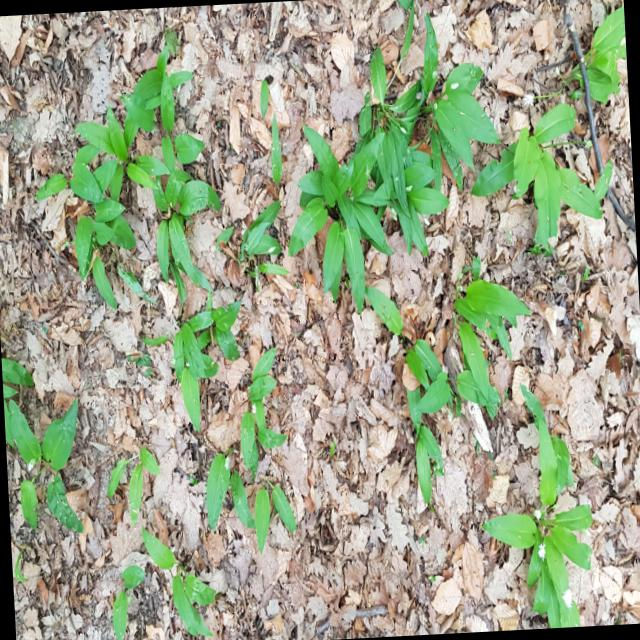grass: (37, 31, 240, 430), (288, 13, 500, 335), (473, 0, 612, 253), (2, 358, 85, 532), (484, 506, 592, 628), (458, 279, 531, 417), (207, 453, 297, 552), (408, 343, 453, 504), (237, 110, 283, 261), (522, 385, 571, 508), (241, 349, 287, 476), (592, 4, 627, 101), (173, 575, 216, 635), (129, 447, 160, 527), (144, 527, 181, 569), (398, 0, 418, 64), (21, 479, 38, 528), (114, 590, 129, 640), (110, 460, 130, 496), (259, 78, 272, 119), (123, 566, 145, 588), (17, 566, 26, 581)
white-sand: (0, 0, 640, 640), (0, 11, 121, 438), (10, 505, 115, 640), (596, 58, 635, 217), (568, 0, 622, 45)
